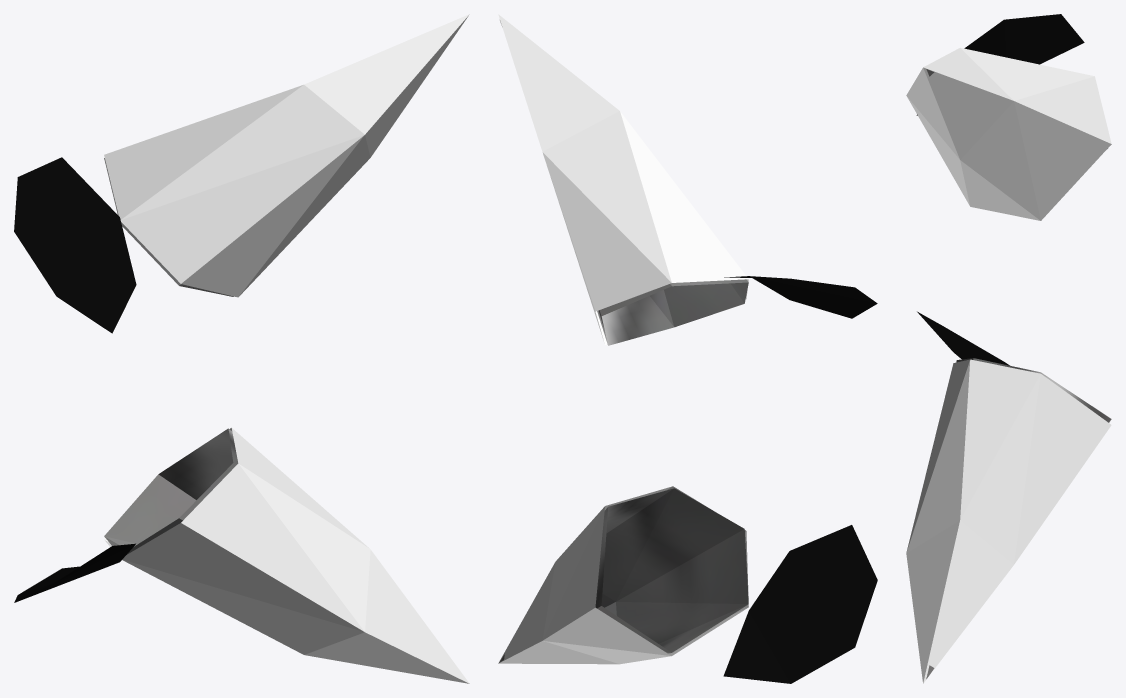
3 views of the same model, side by side, from view 1: azimuth 30°, elevation 25°; view 2: azimuth 150°, elevation 25°; view 3: azimuth 270°, elevation 25° (orthographic). The views are drawn at different scales.
Parts seen in each view (by area): view 1: B_0023_3a_1, B_0023_3a_0; view 2: B_0023_3a_0, B_0023_3a_1; view 3: B_0023_3a_1, B_0023_3a_0.
Part boxes in pixels (<box>): B_0023_3a_1: <box>104,14,469,683</box>; B_0023_3a_0: <box>14,157,238,602</box>; B_0023_3a_0: <box>499,20,877,683</box>; B_0023_3a_1: <box>498,14,748,664</box>; B_0023_3a_1: <box>906,47,1111,683</box>; B_0023_3a_0: <box>916,14,1111,678</box>.
Size of the model in its own units: 1.17 by 1.82 by 0.549.
